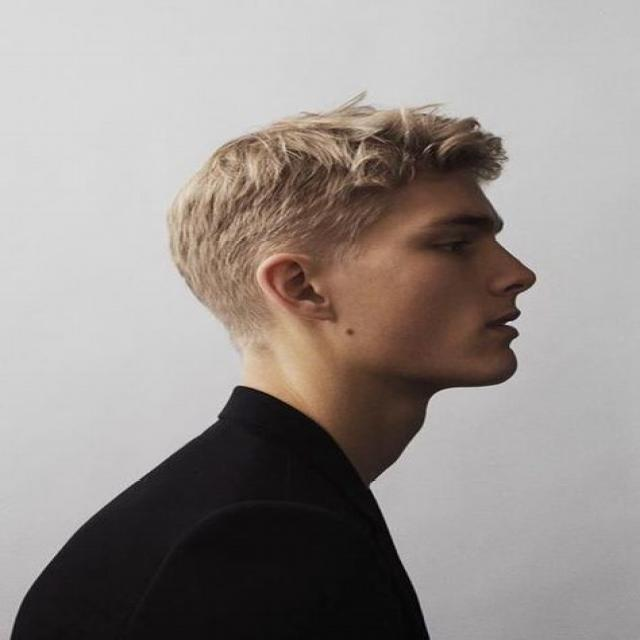Healthy: (246, 321, 440, 481)
